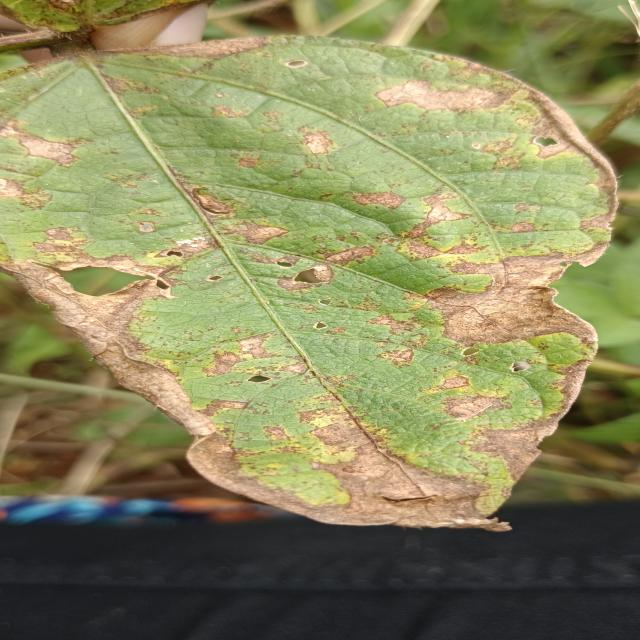Black gram_leaf spot: (0, 32, 632, 538)
